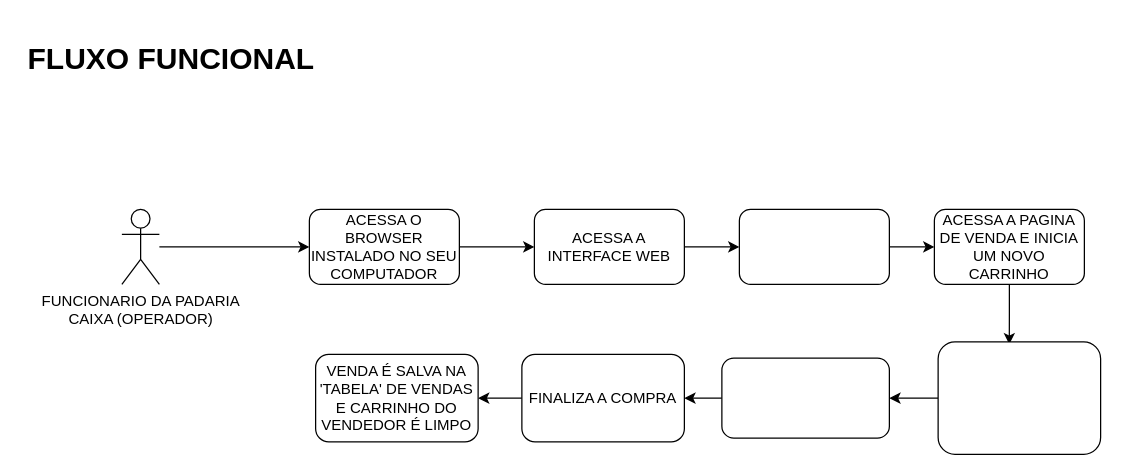
Some shapes in this 1123 by 476 pixel diagram are drawn without their labels. Here are the shapes that lost their labels. From the top down, the centre of each, then its label:
point 813,246: REALIZA O LOGIN COM USUÁRIO E SENHA (UNICO POR FUNC)
point 805,397: SELECIONA O CLIENTE OU CLIENTE PADRAO
point 1019,397: ADICIONA OS PRODUTOS QUE O ITENS GASTOS PELO CLIENTE NO CARRINHO
